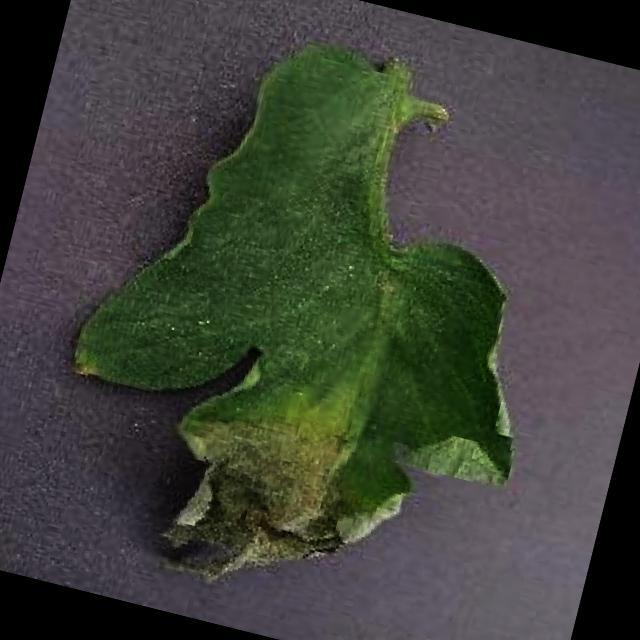Tomato late blight leaf: (22, 7, 601, 640)
